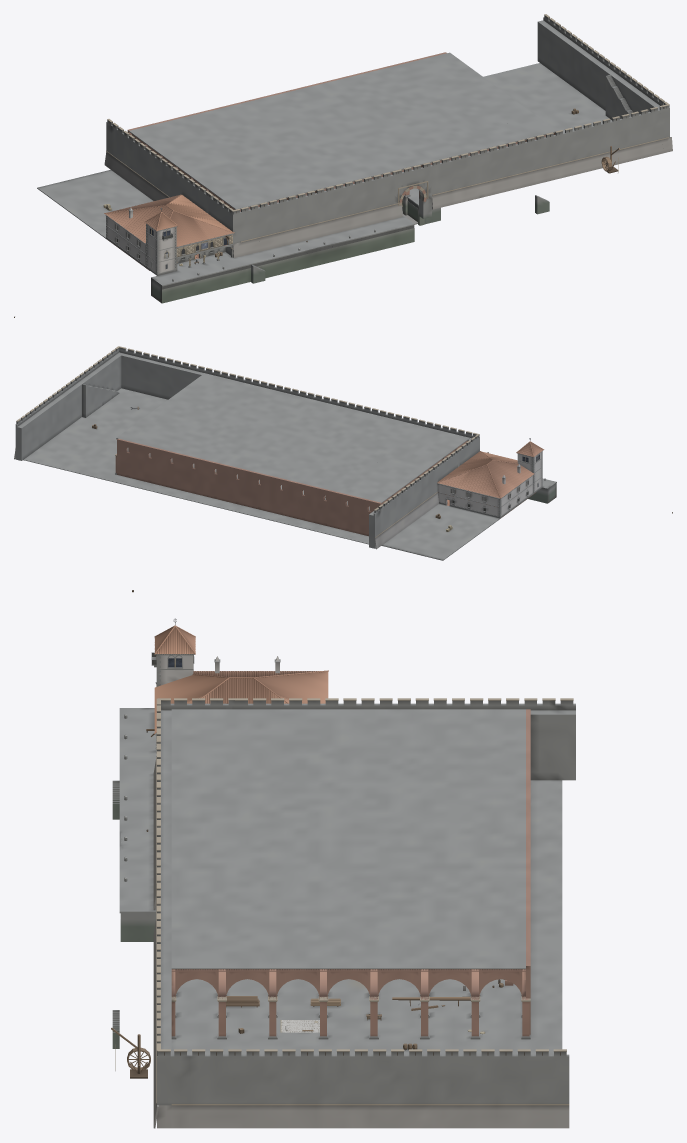
File: shipyard.glb
3 renders of one model, top to bottom at view 1: azimuth 30°, elevation 25°; view 2: azimuth 150°, elevation 25°; view 3: azimuth 270°, elevation 25°, orthographic. The views are drawn at different scales.
Parts seen in each view (by area): view 1: merged_shipyard_open_0_-1, merged_shipyard_open_1_-1, merged_shipyard_roofed_2_-2, merged_shipyard_roofed_1_-2, merged_shipyard_open_4_-2, merged_shipyard_open_3_-1, merged_shipyard_roofed_1_-1, merged_shipyard_roofed_2_-1, merged_shipyard_open_0_-2, merged_shipyard_open_2_-1, merged_shipyard_open_4_-1, merged_shipyard_roofed_0_-2 (+14 smaller); view 2: merged_shipyard_open_0_-2, merged_shipyard_roofed_1_-2, merged_shipyard_roofed_2_-2, merged_shipyard_open_4_-2, merged_shipyard_open_4_-1, merged_shipyard_open_3_-2, merged_shipyard_roofed_1_-1, merged_shipyard_roofed_2_-1, merged_shipyard_open_1_-2, merged_shipyard_open_2_-2, customs_roof.001, merged_shipyard_open_3_-1 (+18 smaller); view 3: merged_shipyard_roofed_2_-2, merged_shipyard_roofed_1_-2, merged_shipyard_open_4_-2, merged_shipyard_open_3_-2, merged_shipyard_open_4_-1, merged_shipyard_roofed_2_-1, merged_shipyard_roofed_1_-1, merged_shipyard_open_3_-1, merged_shipyard_roofed_3_-2, merged_shipyard_roofed_0_-2, merged_shipyard_roofed_3_-1, merged_shipyard_roofed_0_-1 (+12 smaller).
Part boxes in pixels (x1,y1,x2,y2): merged_shipyard_open_0_-1: [176, 175, 313, 297]; merged_shipyard_open_1_-1: [296, 171, 414, 266]; merged_shipyard_roofed_2_-2: [288, 66, 454, 136]; merged_shipyard_roofed_1_-2: [182, 92, 348, 162]; merged_shipyard_open_4_-2: [507, 22, 620, 125]; merged_shipyard_open_3_-1: [506, 97, 622, 190]; merged_shipyard_roofed_1_-1: [243, 137, 394, 196]; merged_shipyard_roofed_2_-1: [350, 111, 501, 170]; merged_shipyard_open_0_-2: [70, 117, 190, 212]; merged_shipyard_open_2_-1: [402, 144, 508, 225]; merged_shipyard_open_4_-1: [572, 70, 672, 163]; merged_shipyard_roofed_0_-2: [129, 118, 242, 176]; merged_shipyard_open_0_-2: [336, 464, 475, 550]; merged_shipyard_roofed_1_-2: [250, 433, 387, 491]; merged_shipyard_roofed_2_-2: [162, 412, 299, 470]; merged_shipyard_open_4_-2: [25, 375, 116, 463]; merged_shipyard_open_4_-1: [79, 346, 159, 423]; merged_shipyard_open_3_-2: [63, 401, 172, 485]; merged_shipyard_roofed_1_-1: [301, 406, 425, 454]; merged_shipyard_roofed_2_-1: [213, 384, 337, 433]; merged_shipyard_open_1_-2: [248, 470, 347, 528]; merged_shipyard_open_2_-2: [161, 449, 259, 506]; customs_roof.001: [437, 451, 534, 498]; merged_shipyard_open_3_-1: [117, 356, 252, 426]; merged_shipyard_roofed_2_-2: [323, 837, 525, 923]; merged_shipyard_roofed_1_-2: [323, 752, 525, 837]; merged_shipyard_open_4_-2: [316, 1049, 533, 1128]; merged_shipyard_open_3_-2: [321, 923, 537, 1054]; merged_shipyard_open_4_-1: [153, 1012, 316, 1128]; merged_shipyard_roofed_2_-1: [171, 837, 323, 923]; merged_shipyard_roofed_1_-1: [171, 752, 323, 837]; merged_shipyard_open_3_-1: [153, 921, 332, 1085]; merged_shipyard_roofed_3_-2: [323, 923, 525, 996]; merged_shipyard_roofed_0_-2: [323, 709, 525, 751]; merged_shipyard_roofed_3_-1: [171, 923, 326, 996]; merged_shipyard_roofed_0_-1: [171, 709, 323, 751].
Size of the model in its own units: 211 by 24.35 by 77.16.
